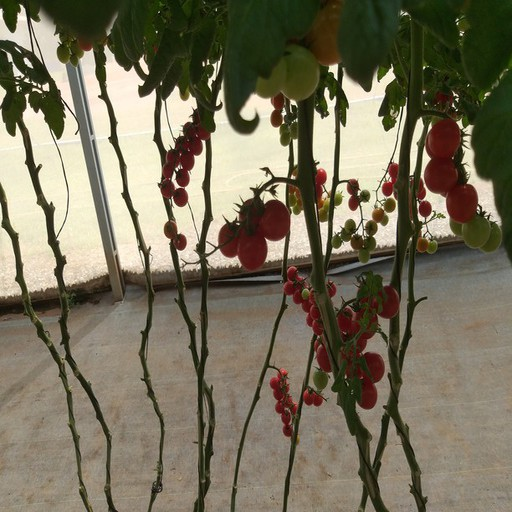green tomato bunch: (245, 1, 351, 103), (56, 28, 96, 67)
mixed tomato bunch: (288, 167, 386, 257)
red tomato bunch: (312, 283, 401, 406), (221, 172, 302, 269), (421, 118, 478, 225), (160, 108, 215, 209), (284, 267, 335, 333), (387, 160, 432, 220), (269, 368, 305, 441)
